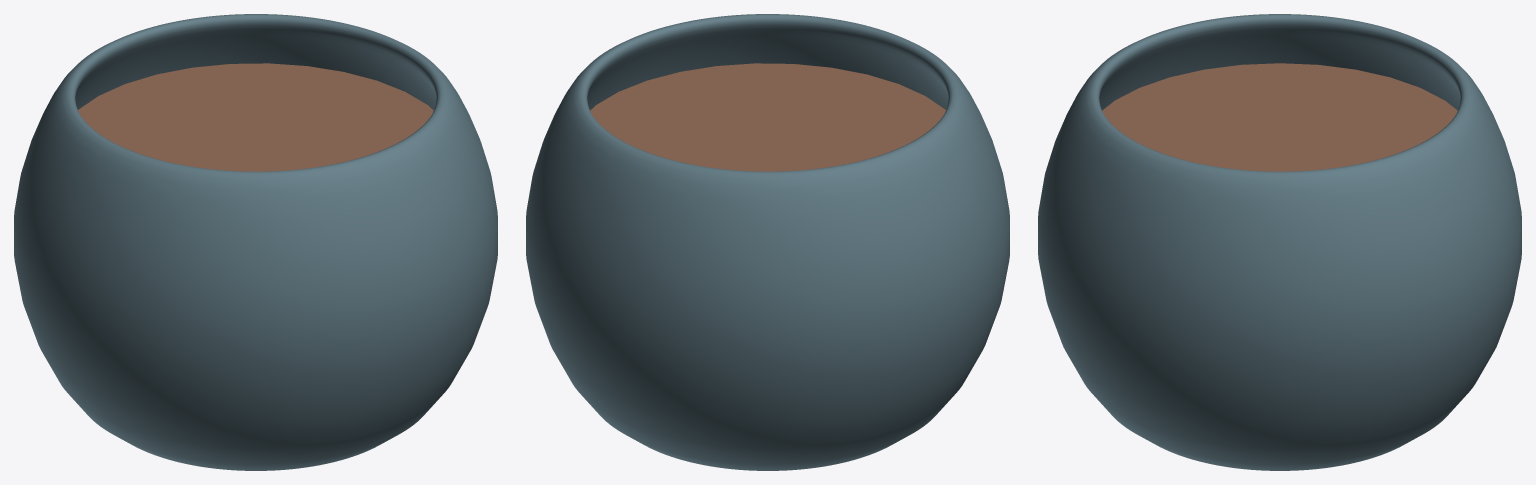
File: round_blue.glb
The picture shows the model from 3 angles, left to right: view 1: azimuth 30°, elevation 25°; view 2: azimuth 150°, elevation 25°; view 3: azimuth 270°, elevation 25°; orthographic projection.
Parts seen in each view (by area): view 1: Circle.004, Circle.005; view 2: Circle.004, Circle.005; view 3: Circle.004, Circle.005.
Boxes of the visible parts, left/top/right/bottom form: Circle.004: left=14, top=14, right=497, bottom=470; Circle.005: left=78, top=63, right=433, bottom=171; Circle.004: left=526, top=14, right=1009, bottom=470; Circle.005: left=590, top=63, right=945, bottom=171; Circle.004: left=1038, top=14, right=1521, bottom=470; Circle.005: left=1102, top=63, right=1457, bottom=171.
Bounding box in the file's own units: 13.78 × 10.23 × 13.78.
